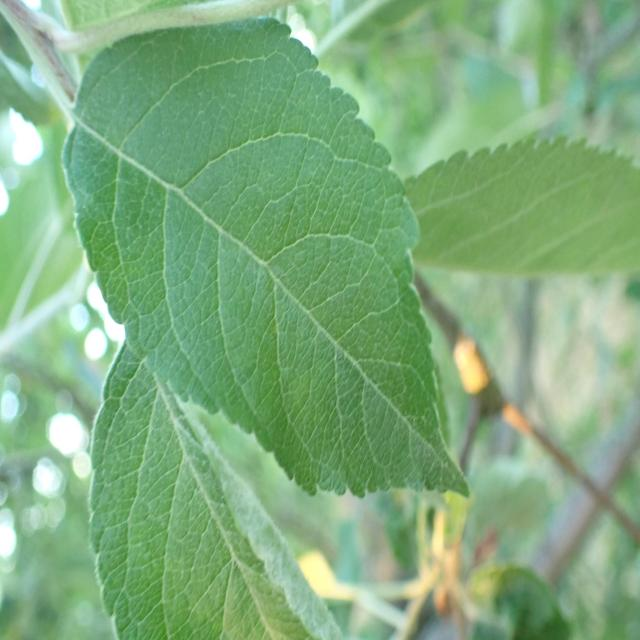healthy: (63, 17, 469, 500), (90, 330, 346, 640), (403, 132, 639, 278)
